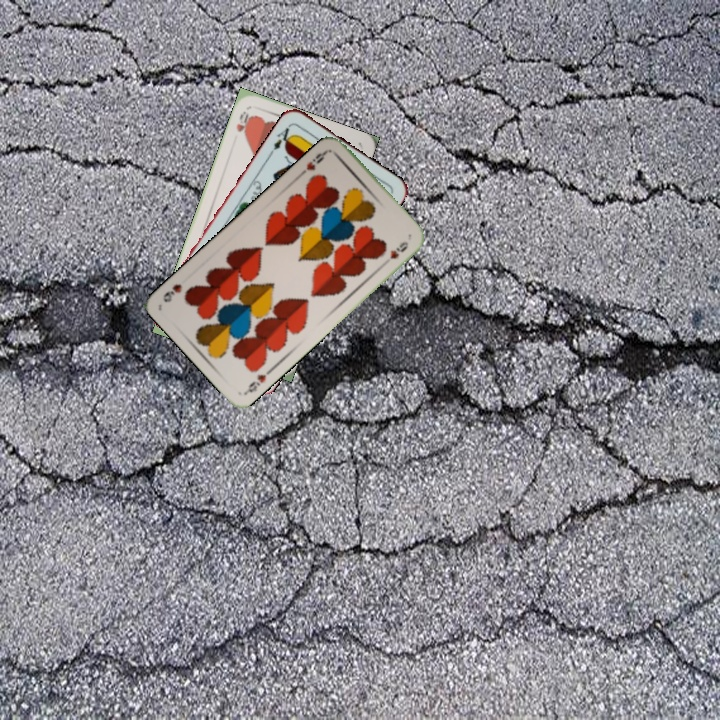EA: (269, 121, 297, 153)
H9: (297, 146, 330, 178), (241, 370, 269, 396)
HO: (232, 107, 254, 140)
